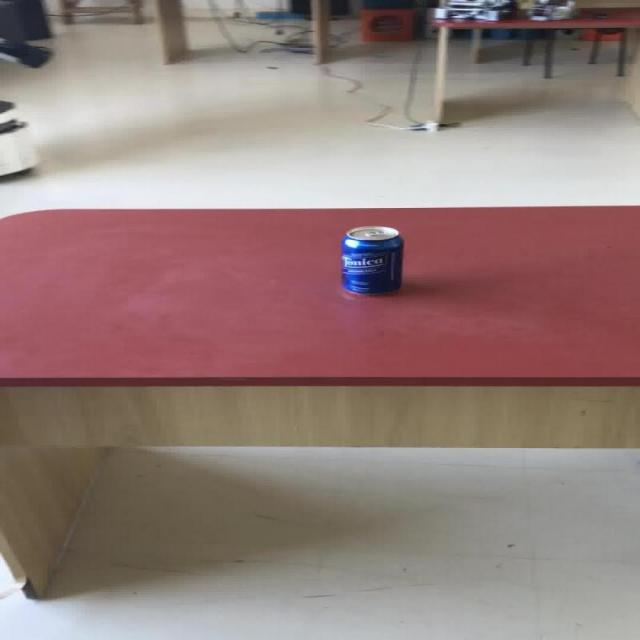Tonic: (338, 224, 403, 295)
